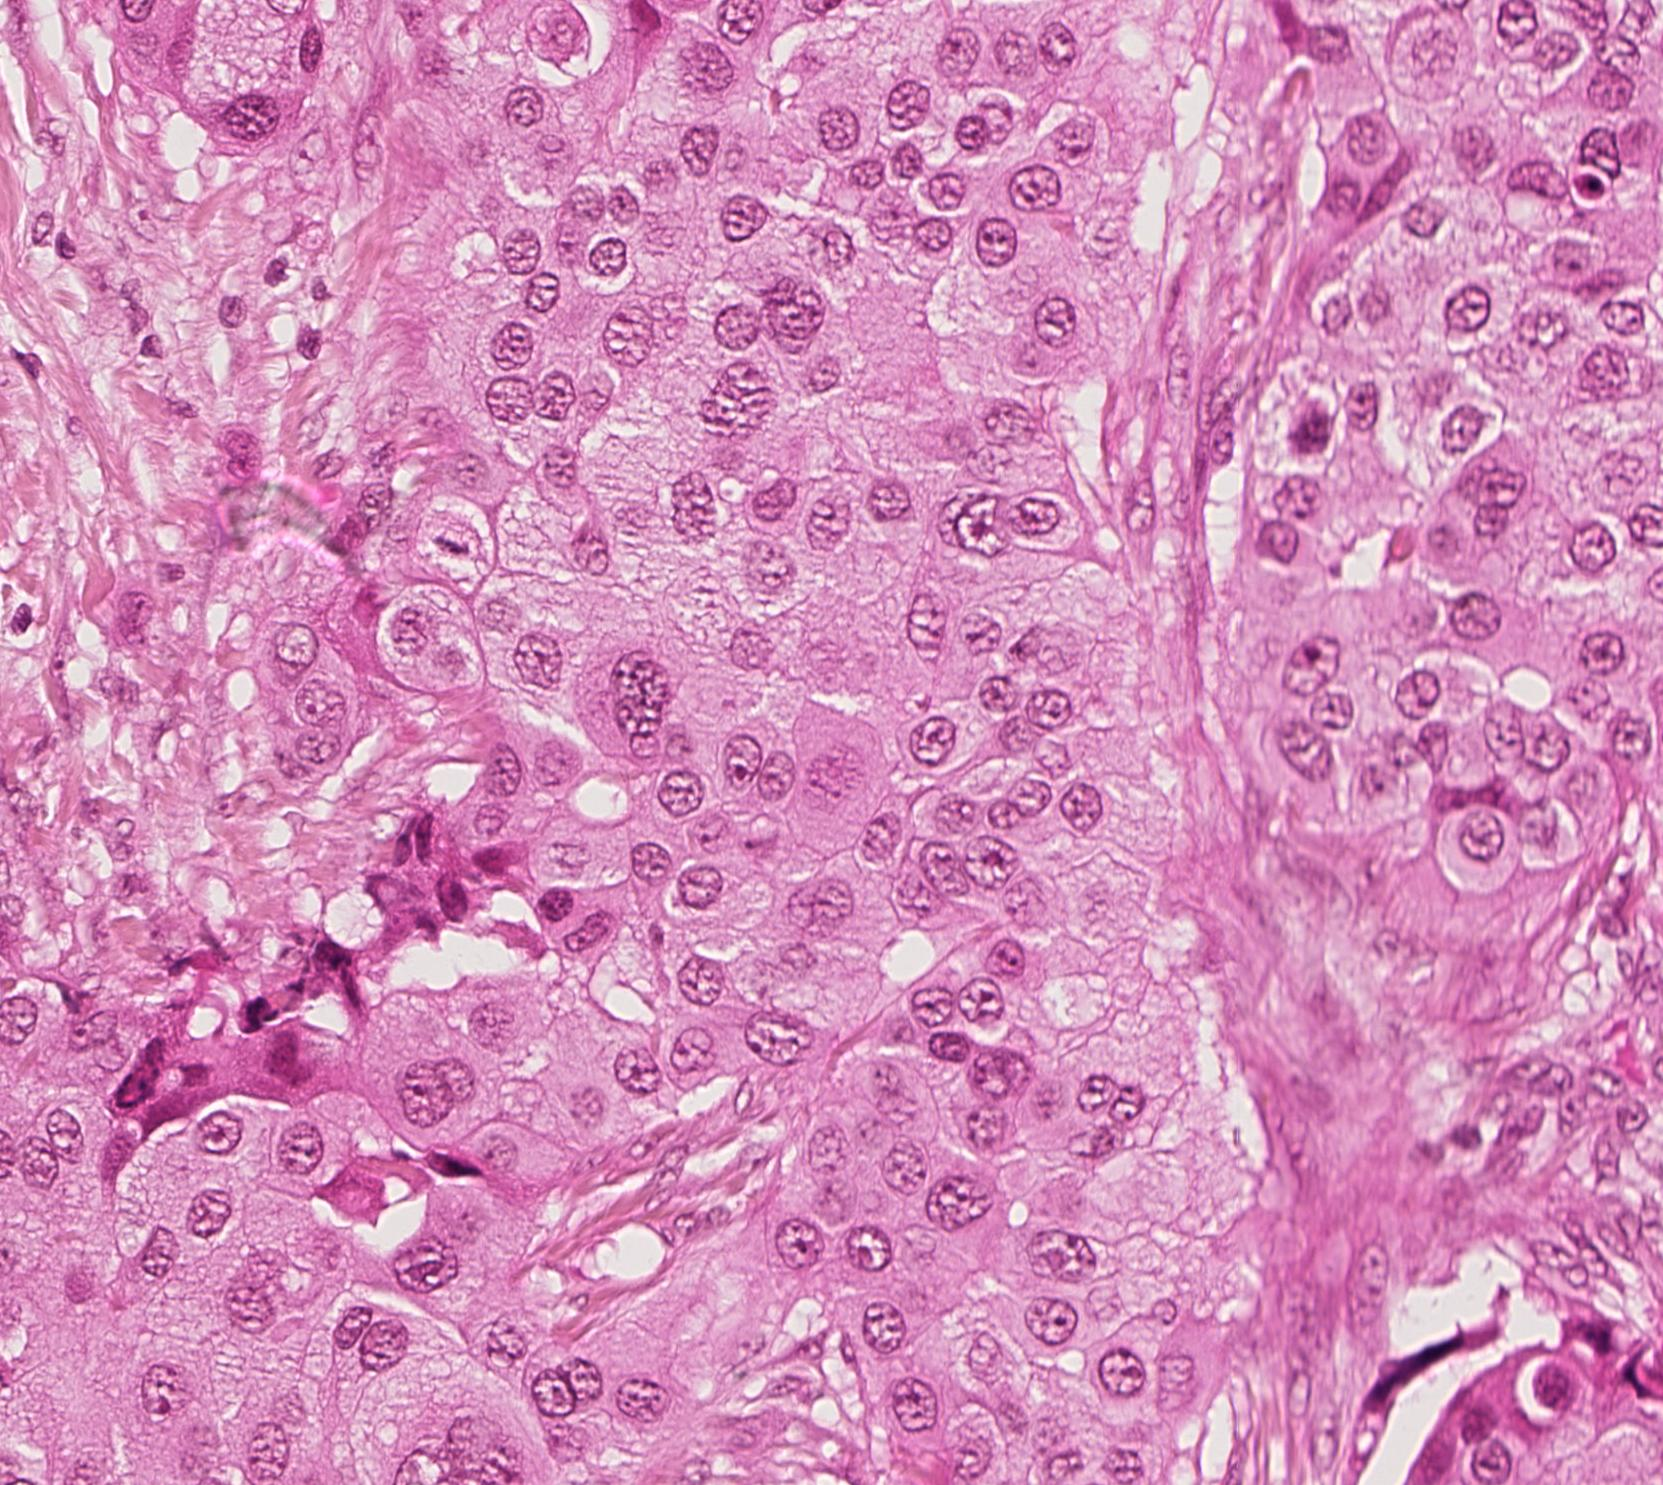mitosis: (421, 515, 482, 573)
